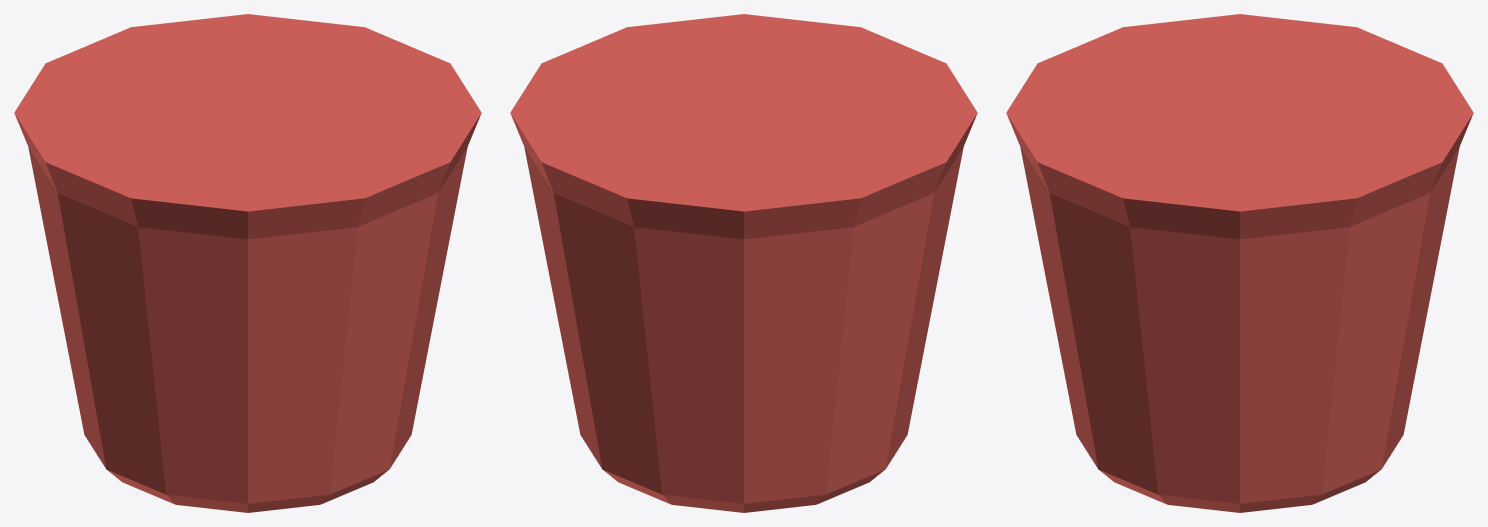
The model's file is cup_paper_red.fbx.
The picture shows the model from 3 angles, left to right: view 1: azimuth 30°, elevation 25°; view 2: azimuth 150°, elevation 25°; view 3: azimuth 270°, elevation 25°; orthographic projection.
Visible parts, largest first — view 1: cup_paper_red; view 2: cup_paper_red; view 3: cup_paper_red.
Boxes of the visible parts, x1,y1,x2,y2 form: cup_paper_red: [14, 14, 481, 512]; cup_paper_red: [510, 14, 977, 512]; cup_paper_red: [1006, 14, 1473, 512].
Bounding box in the file's own units: 0.05 × 0.04 × 0.05.
